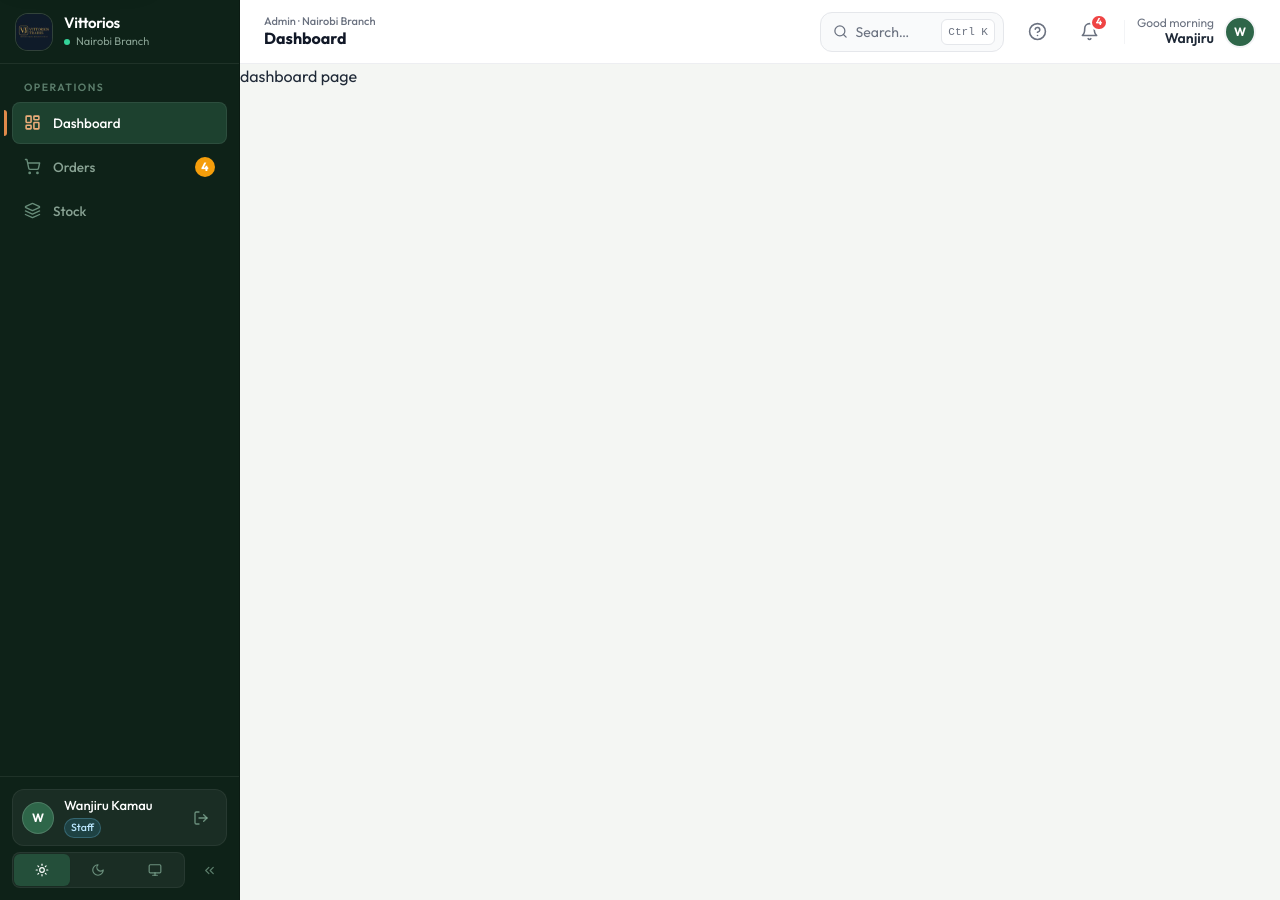
it: AdminLayout — help assistant › opens the help assistant from the top bar and closes it again
Expected: the dialog "Help assistant" is not shown
Click the button named "Ask the help assistant" at [1038, 32], box top-left (1016, 10), bottom-right (1060, 54)
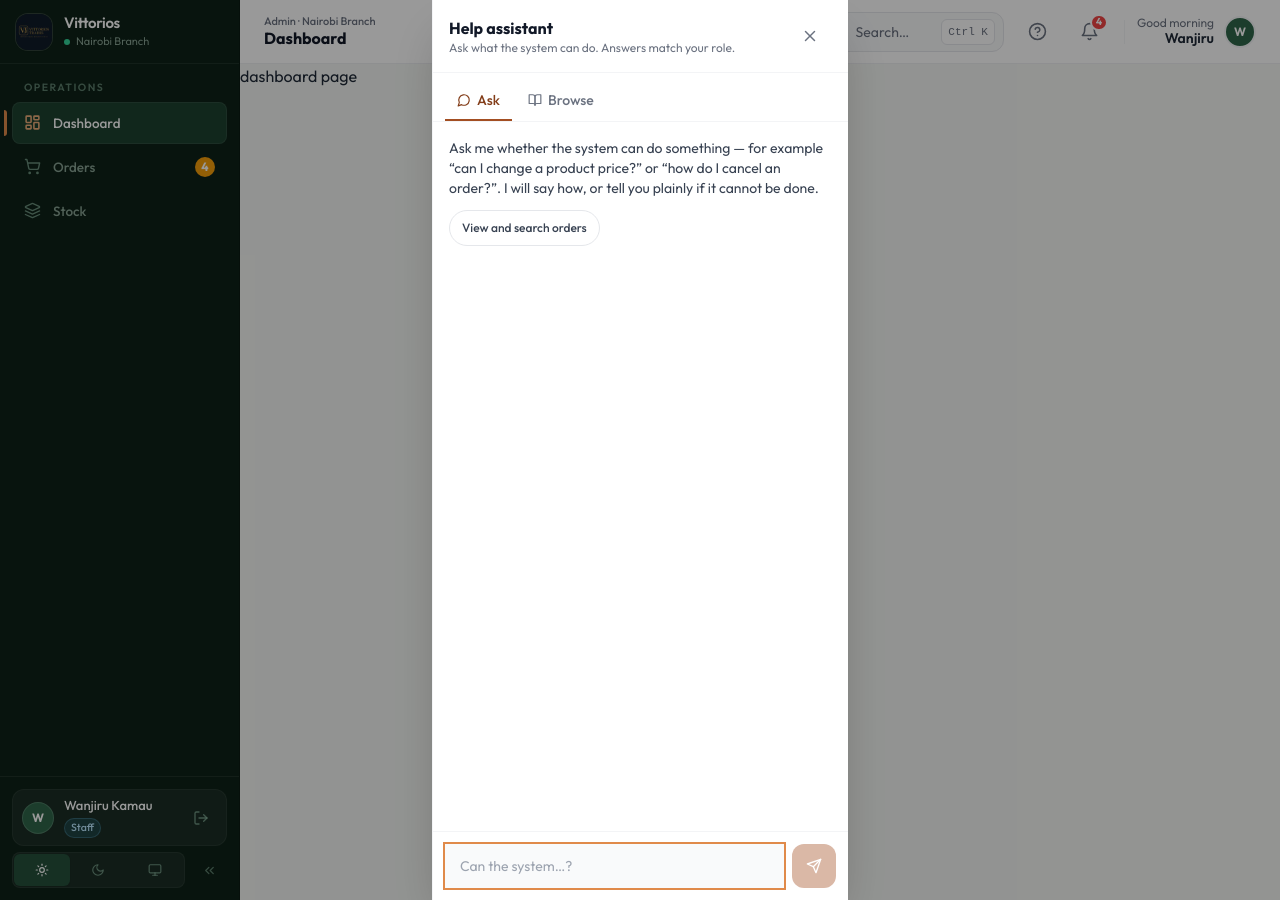
Expected: the dialog "Help assistant" is shown, top-left (432, 0), bottom-right (848, 899)
Expected: the button "View and search orders" is shown, top-left (449, 210), bottom-right (600, 246)
Click the button named "Close help assistant" at [810, 36], box top-left (788, 14), bottom-right (832, 58)
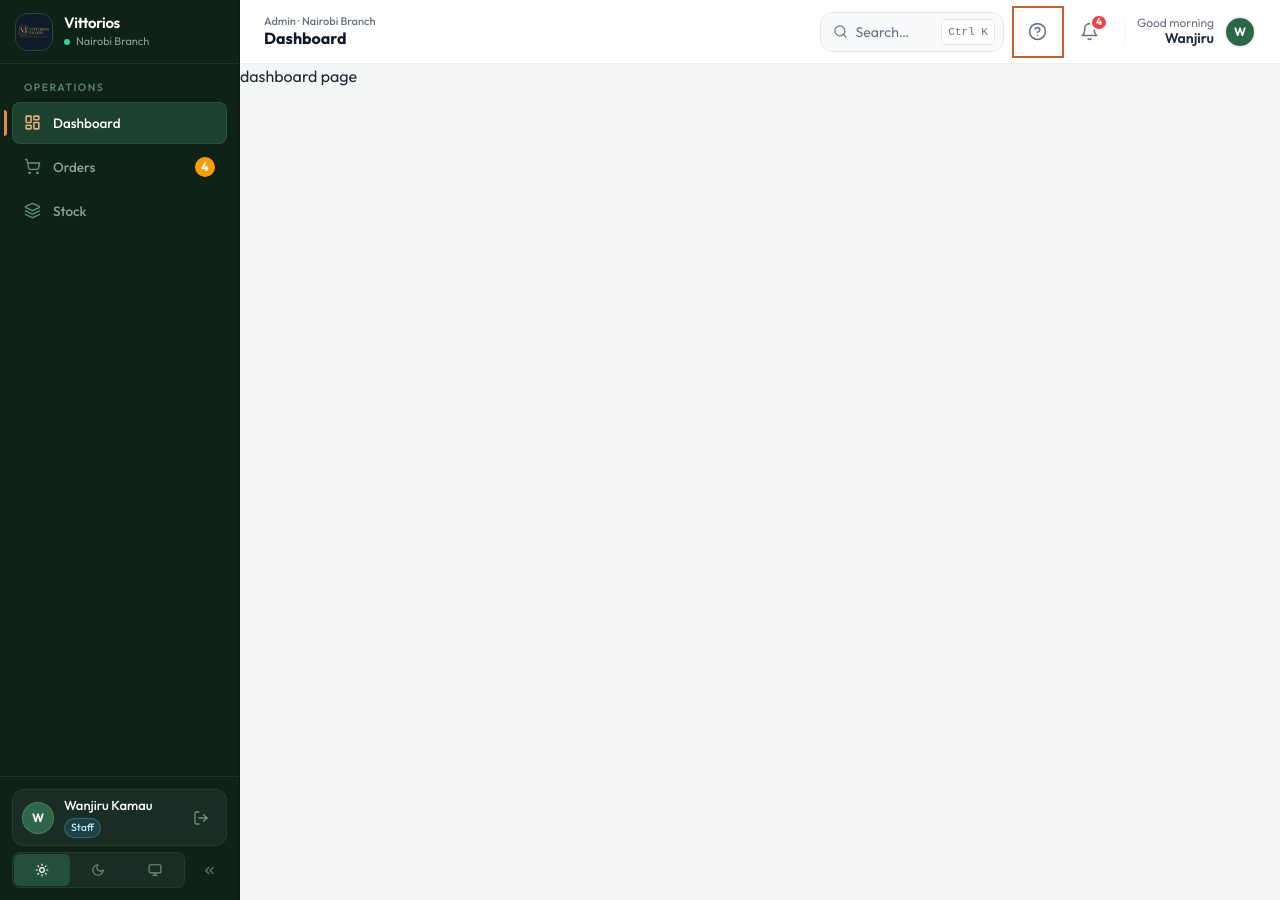
Expected: the heading "Help assistant" is gone
